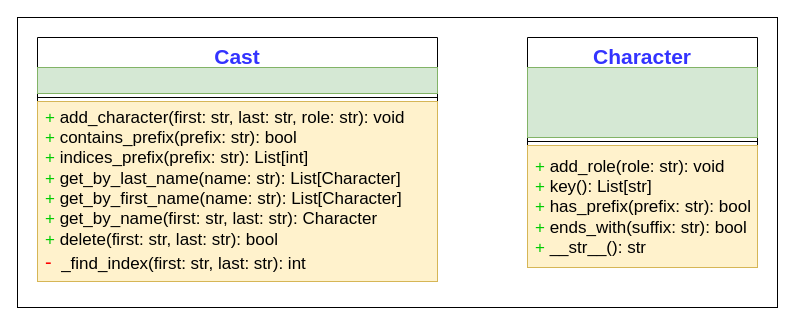
Image size: 795x325. Some labels were removed from this diagram. The box of each missing label's shape, as (x1, y1, x2, y2) in pixels:
+ first_name: str + last_name: str + roles: List[str]: (526, 66, 758, 138)
- __inderlying: List[Character]: (36, 66, 438, 94)
